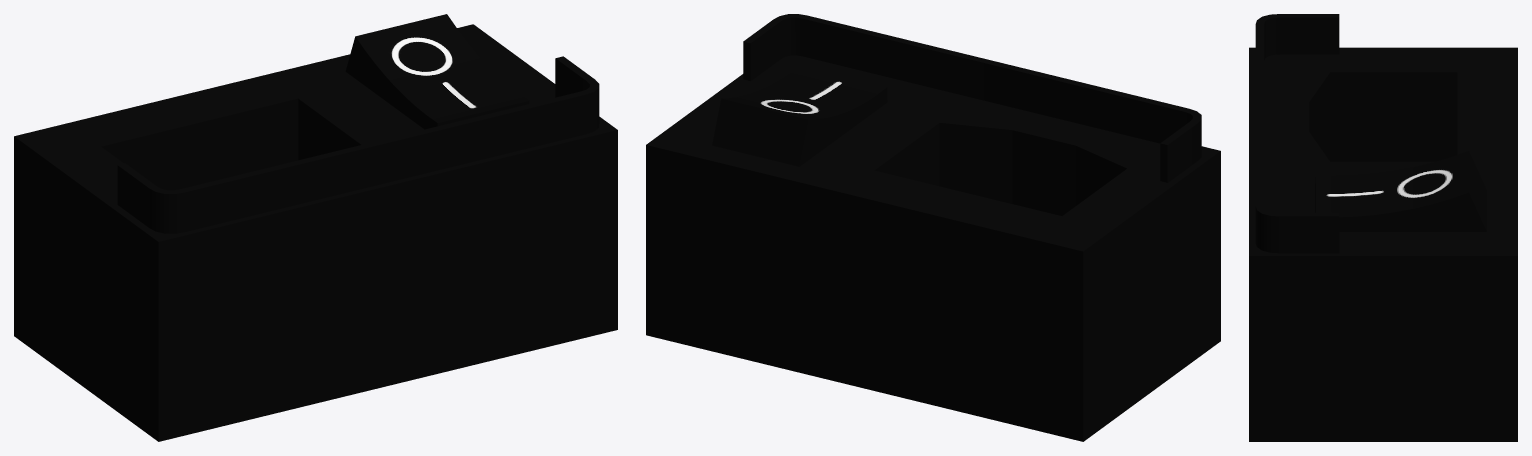
The model's file is coffee_machine_main_group_main_model_3.obj.
3 views of the same model, side by side, from view 1: azimuth 30°, elevation 25°; view 2: azimuth 150°, elevation 25°; view 3: azimuth 270°, elevation 25° (orthographic). The views are drawn at different scales.
Bounding box in the file's own units: 0.1067 × 0.0538 × 0.0581.
Materials: 1 (1 with a texture image).
